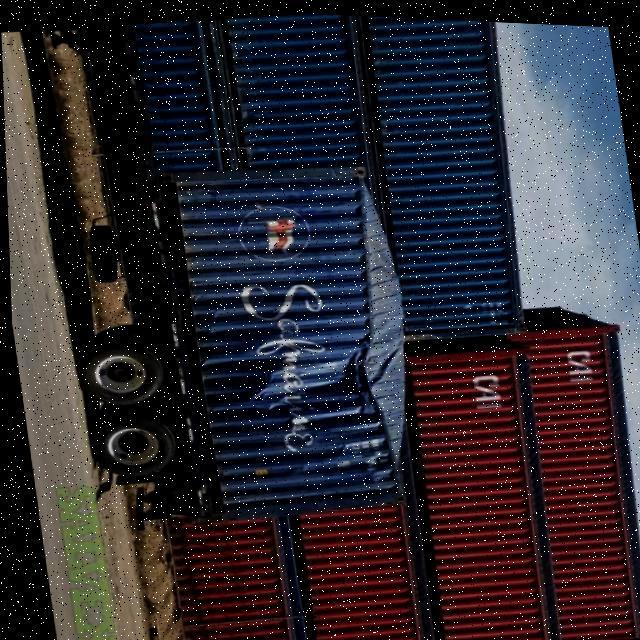dent: (194, 183, 436, 501)
